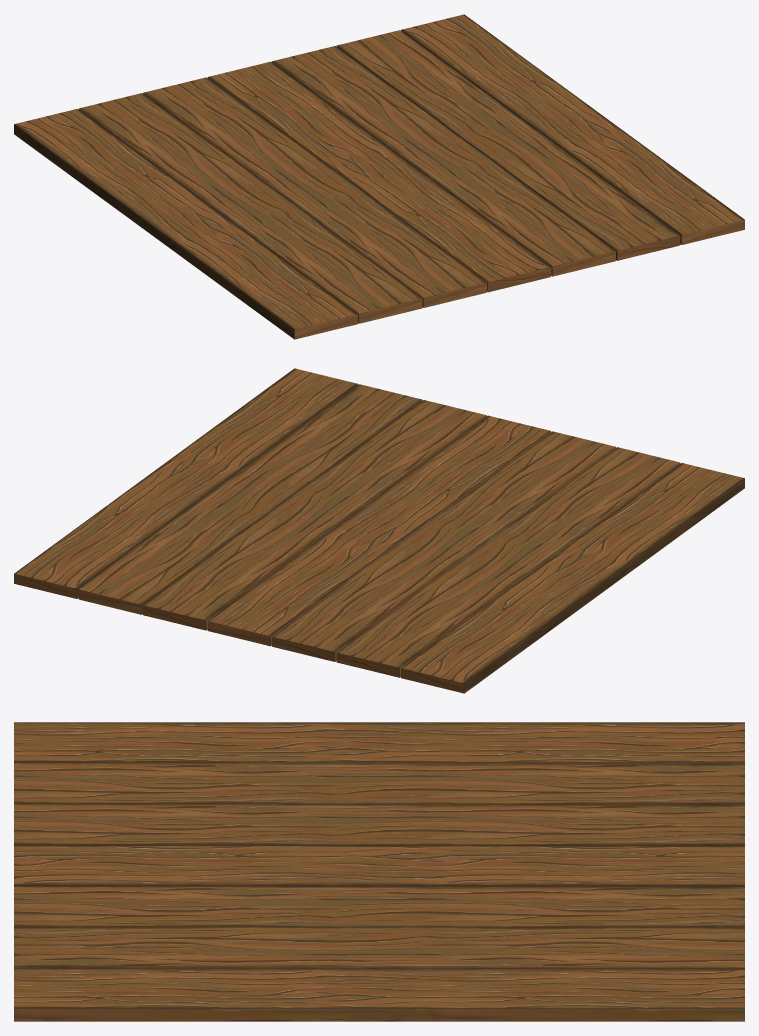
The model's file is Floor_new.fbx.
3 views of the same model, one above another, from view 1: azimuth 30°, elevation 25°; view 2: azimuth 150°, elevation 25°; view 3: azimuth 270°, elevation 25° (orthographic). The views are drawn at different scales.
Visible parts, largest first — view 1: Floor.001; view 2: Floor.001; view 3: Floor.001.
Boxes of the visible parts, x1,y1,x2,y2 form: Floor.001: [14, 14, 744, 339]; Floor.001: [14, 368, 744, 693]; Floor.001: [14, 722, 744, 1021].
Bounding box in the file's own units: 165 × 3.5 × 177.
